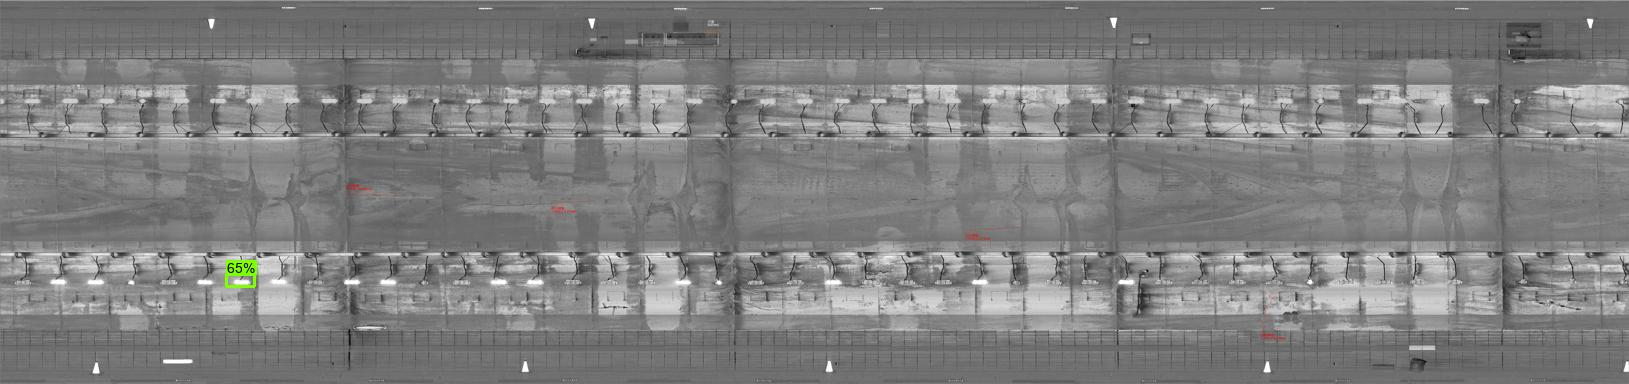light: (559, 274, 585, 289), (485, 275, 510, 289), (1262, 275, 1287, 289), (192, 274, 215, 289), (157, 276, 181, 290), (1043, 274, 1065, 289), (523, 276, 548, 289), (967, 276, 992, 289), (1441, 275, 1466, 287), (819, 277, 846, 289), (10, 276, 34, 289), (45, 276, 69, 289), (894, 277, 918, 290), (1076, 276, 1100, 289), (1114, 276, 1138, 289), (1558, 94, 1582, 107), (779, 277, 805, 289), (84, 276, 109, 287), (338, 276, 363, 287), (376, 277, 401, 289), (450, 276, 473, 289), (1159, 95, 1184, 107), (58, 94, 81, 107), (268, 277, 292, 289), (670, 277, 694, 289), (743, 277, 767, 289), (1189, 277, 1212, 289), (1050, 95, 1072, 108), (756, 93, 778, 106), (231, 277, 253, 289), (600, 275, 623, 286), (500, 95, 523, 107), (1151, 276, 1176, 286), (1406, 275, 1426, 287), (1236, 95, 1257, 108), (977, 95, 1002, 106), (1611, 93, 1629, 108), (1351, 95, 1378, 105), (1299, 276, 1320, 287), (1469, 95, 1491, 107), (1088, 95, 1110, 107), (930, 278, 954, 289), (1272, 94, 1296, 105), (683, 94, 706, 105), (637, 276, 657, 289), (859, 276, 879, 289), (303, 276, 324, 287), (1005, 277, 1025, 289), (1225, 276, 1248, 286), (1372, 276, 1393, 287), (904, 95, 927, 106), (573, 95, 594, 107), (707, 276, 726, 289), (832, 94, 851, 107), (869, 95, 890, 106), (1614, 274, 1629, 290), (1430, 95, 1449, 107), (795, 95, 814, 107), (1335, 276, 1359, 285), (940, 95, 964, 105), (413, 276, 431, 289), (1508, 94, 1526, 107), (1125, 95, 1146, 106), (208, 95, 229, 106), (97, 95, 117, 106), (648, 94, 668, 105), (464, 95, 484, 106), (21, 95, 41, 106), (1511, 277, 1532, 286), (390, 95, 411, 105), (354, 95, 376, 105), (1201, 95, 1222, 105), (610, 95, 631, 105), (537, 97, 558, 106), (319, 95, 338, 106), (243, 95, 264, 105), (170, 95, 191, 105), (1013, 95, 1033, 105), (281, 95, 300, 105), (123, 277, 138, 289), (1565, 274, 1578, 286), (1309, 95, 1327, 105), (1394, 95, 1411, 104), (728, 94, 740, 105), (429, 95, 440, 105), (134, 97, 148, 104), (1, 95, 6, 105)
